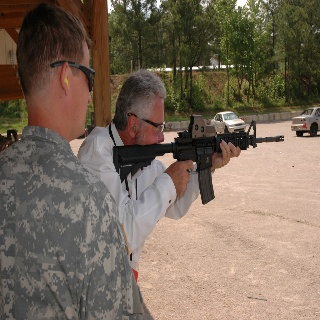rifle: (113, 112, 286, 207)
